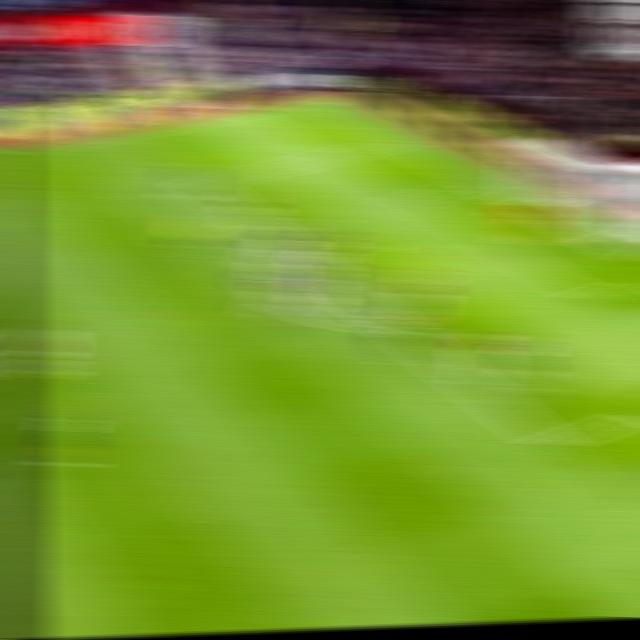bigarea_bottom_inner: (528, 427, 574, 456)
bigarea_top_inner: (179, 172, 222, 193)
bigarea_top_outter: (376, 133, 415, 150)
bottom_arc_area_intersection: (385, 323, 426, 342)
corner: (289, 91, 330, 107)
smallarea_bottom_inner: (569, 282, 611, 309)
smallarea_top_inner: (392, 189, 435, 209)
smallarea_top_outter: (457, 173, 496, 192)
